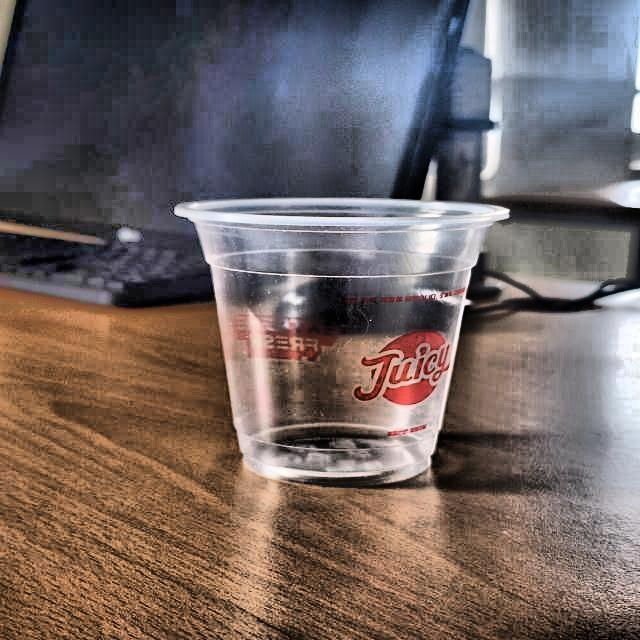plastic cup: (173, 196, 512, 487)
